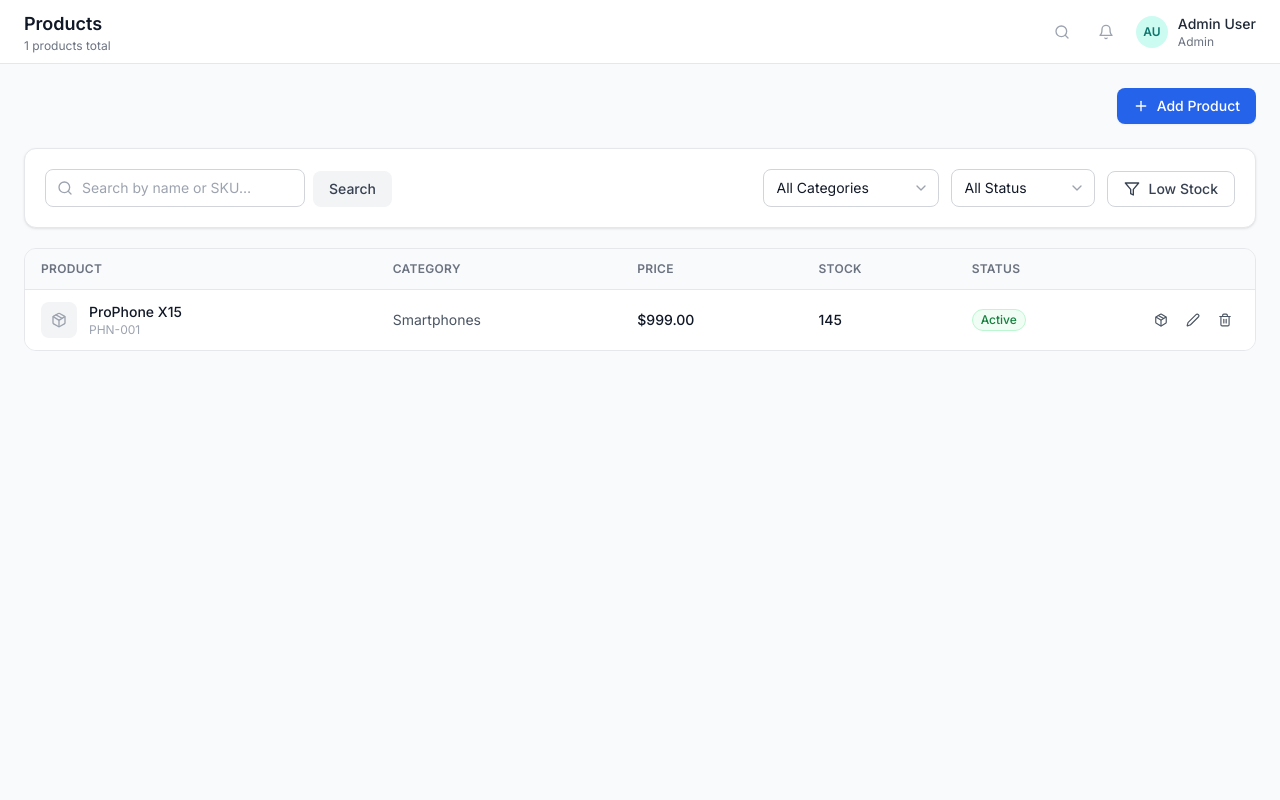
Test: Products — Stock Adjustment › opens the stock modal when stock button is clicked
Expected: the text "ProPhone X15" is shown, [89,302,182,322]
Click the button titled "Adjust stock": (1161, 320) [1147,306,1175,334]
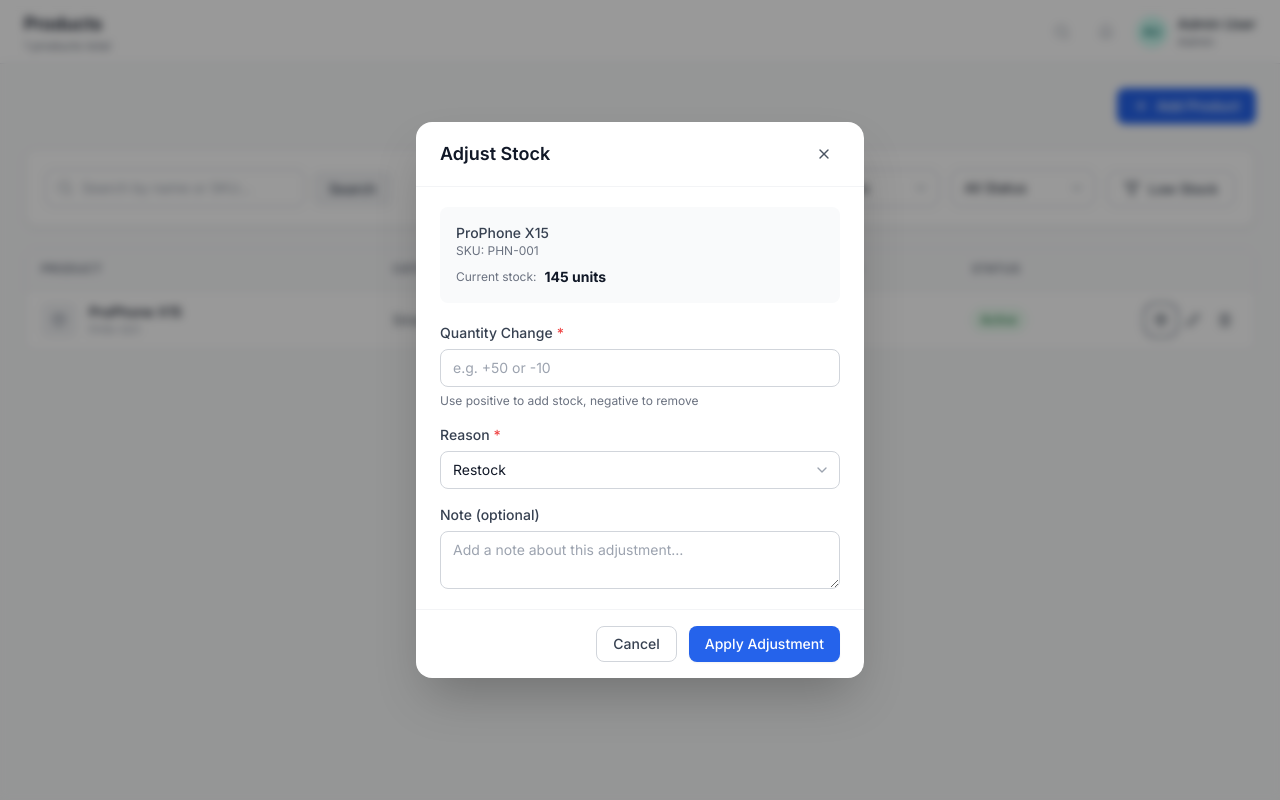
Now the dialog is shown, box [416,122,864,678]
Now the heading "Adjust Stock" is shown, box [440,140,550,168]
Now the text "Current stock:" is shown, box [456,269,536,285]
